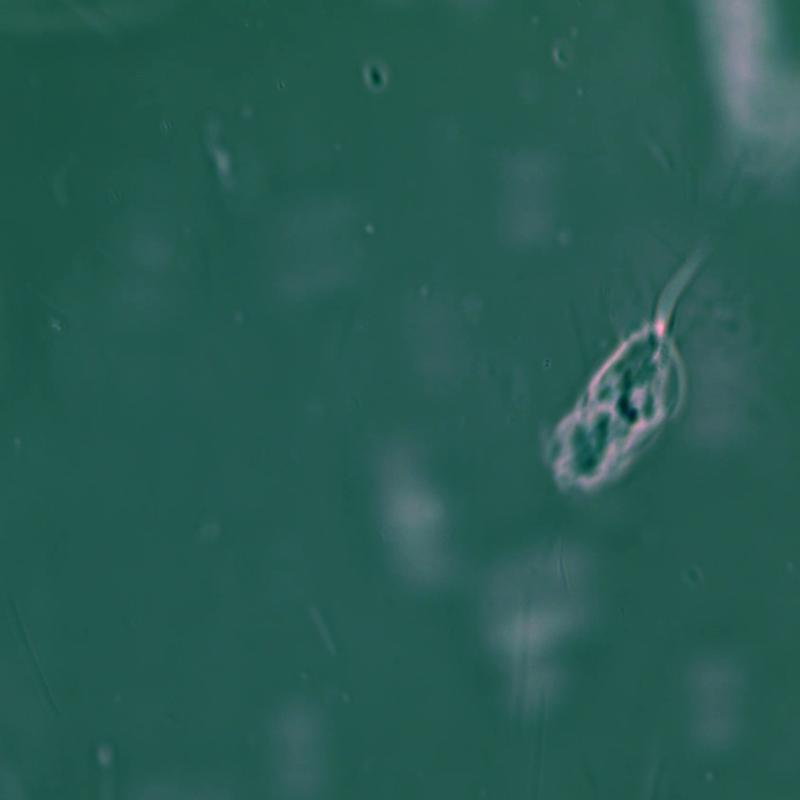depth:40: (540, 235, 752, 509)
